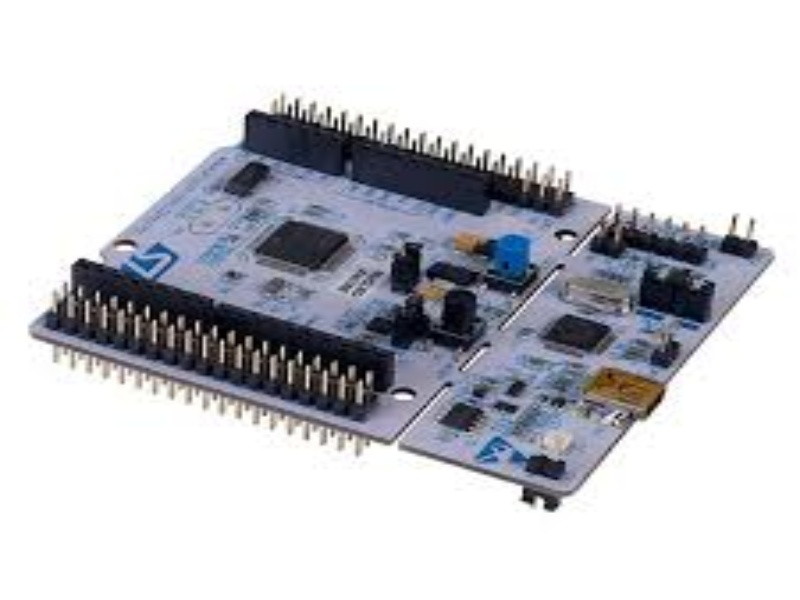stmnucleo: (29, 87, 789, 509)
